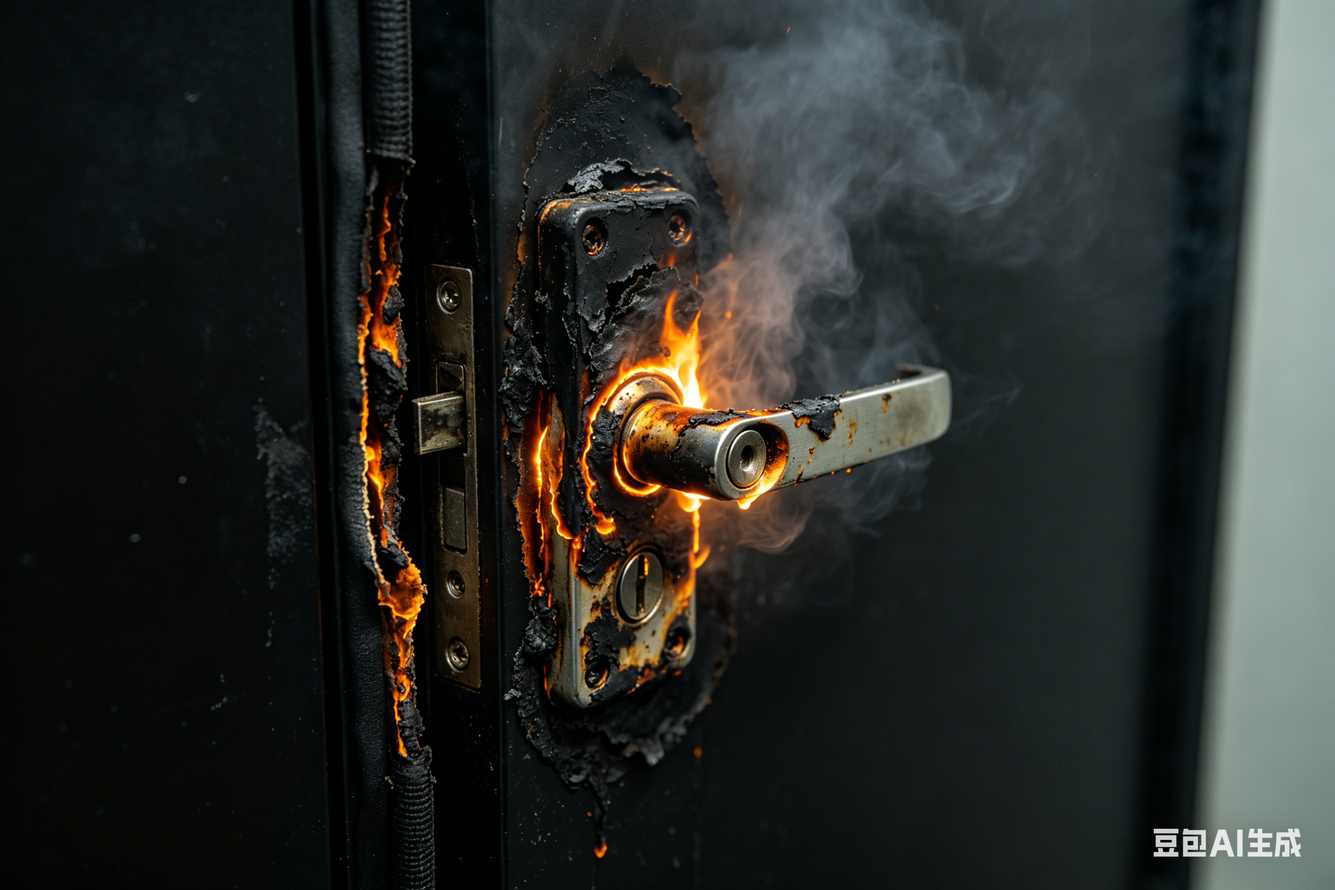BadLock: (539, 208, 708, 685)
